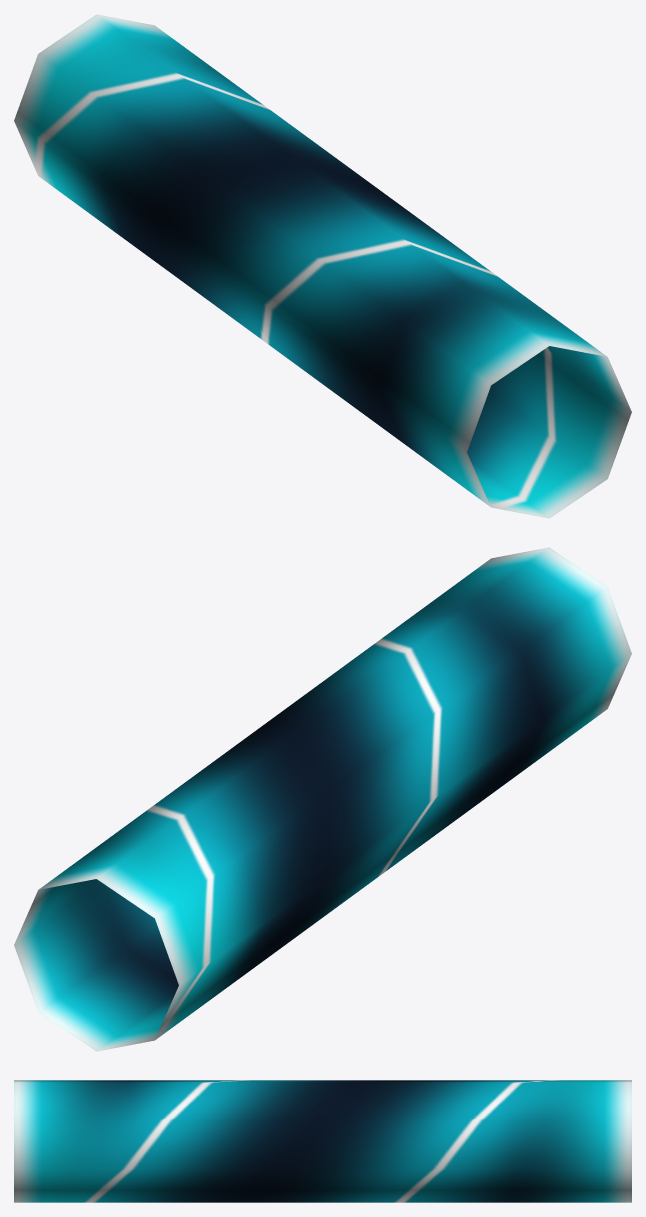
The model's file is BossSpawnerBeam.FBX.
The picture shows the model from 3 angles, top to bottom: view 1: azimuth 30°, elevation 25°; view 2: azimuth 150°, elevation 25°; view 3: azimuth 270°, elevation 25°; orthographic projection. The views are drawn at different scales.
Parts seen in each view (by area): view 1: Cylinder001; view 2: Cylinder001; view 3: Cylinder001.
Part boxes in pixels (left/top/right/bottom): Cylinder001: left=14, top=14, right=631, bottom=518; Cylinder001: left=14, top=547, right=631, bottom=1051; Cylinder001: left=14, top=1080, right=631, bottom=1202.
Size of the model in its own units: 1.11 by 1.11 by 5.3.
1 material, 1 textured.
